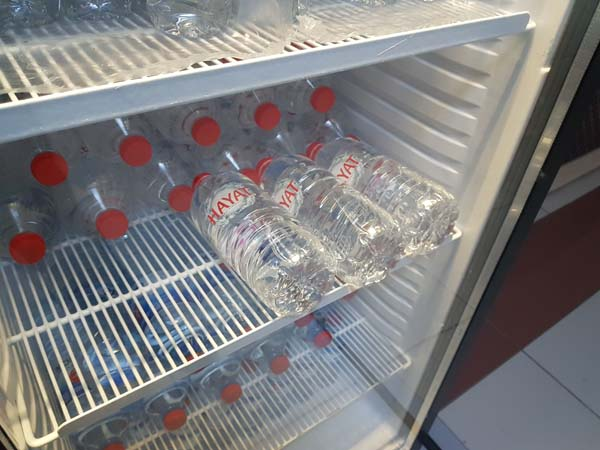w: (302, 133, 475, 260), (193, 166, 338, 317), (257, 155, 407, 284)
